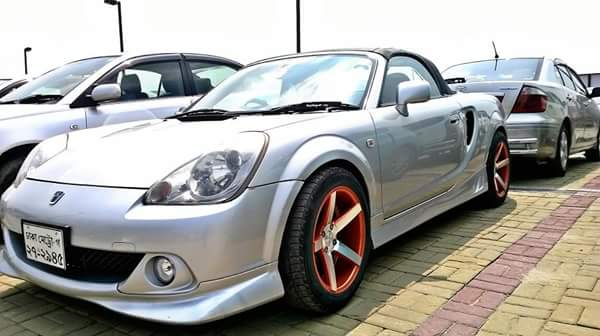registration_plate: (21, 222, 67, 270)
